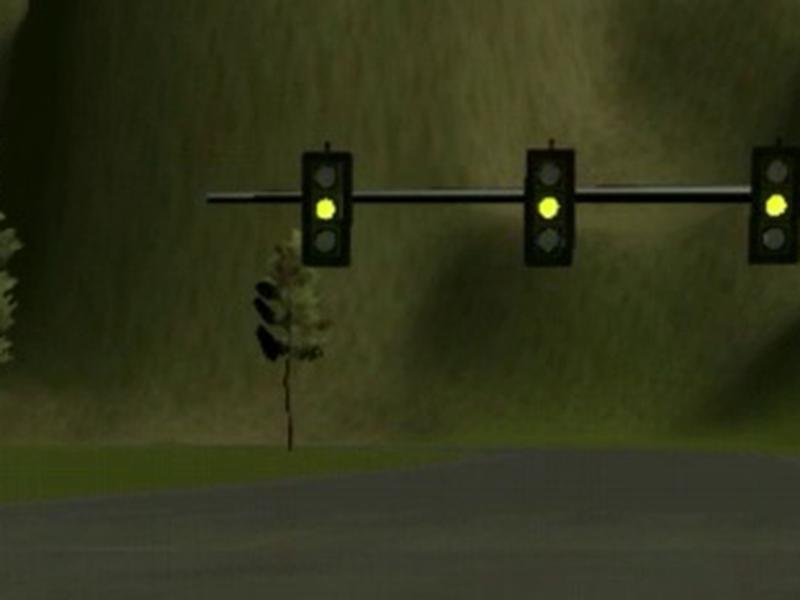Yellow: (525, 148, 576, 267), (300, 151, 352, 266), (747, 148, 798, 264)
